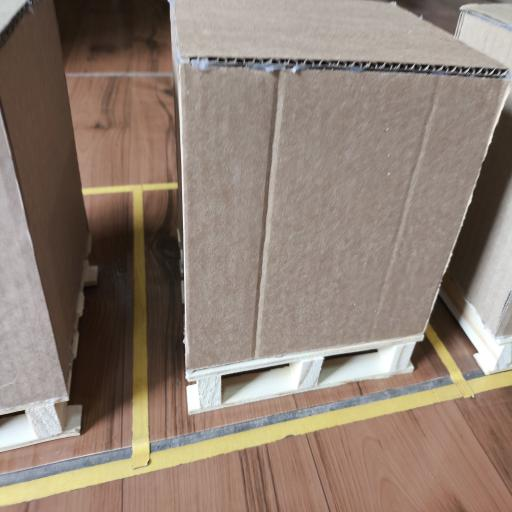pallet: (186, 334, 423, 414), (440, 275, 511, 375), (67, 259, 98, 396)
